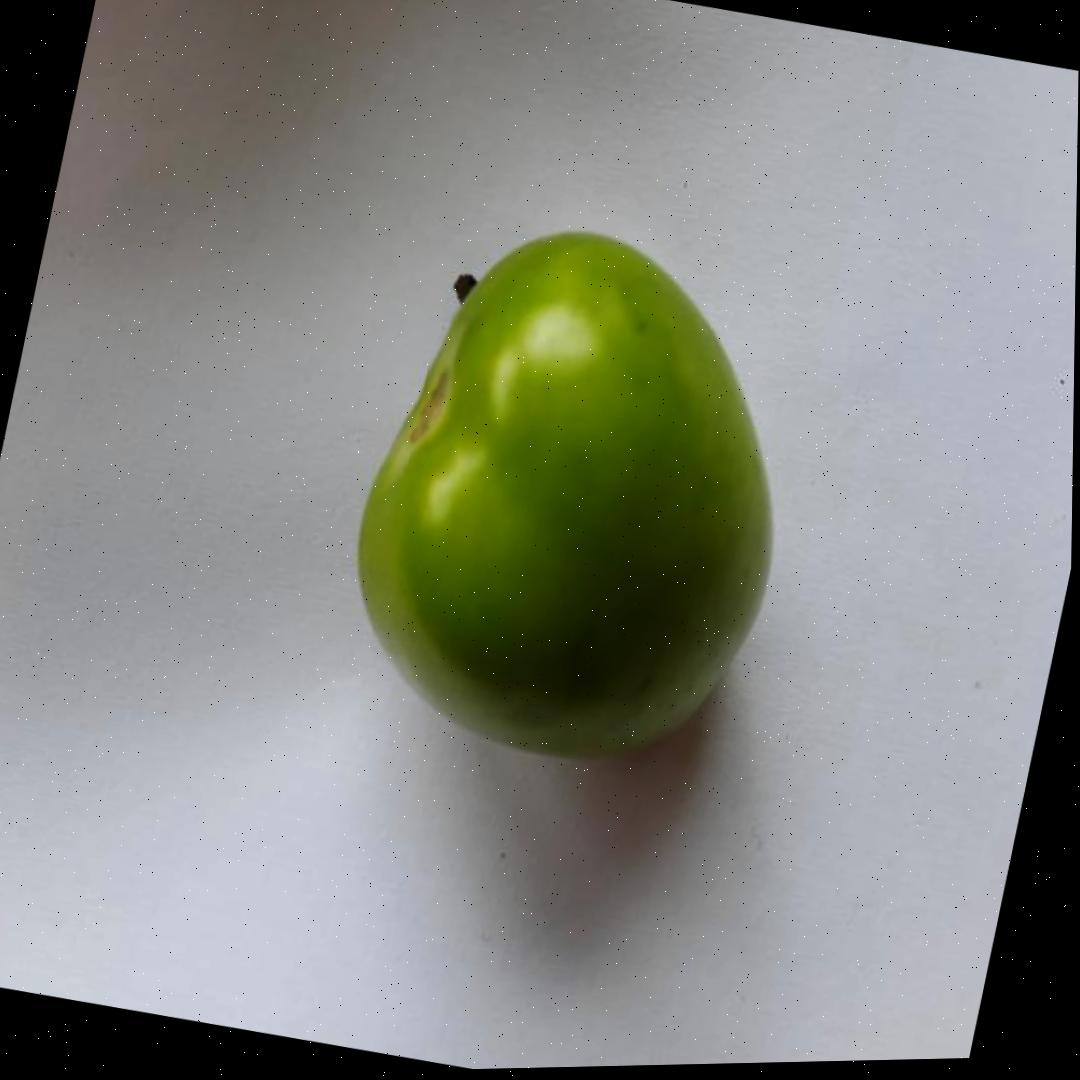mentah: (312, 191, 834, 800)
